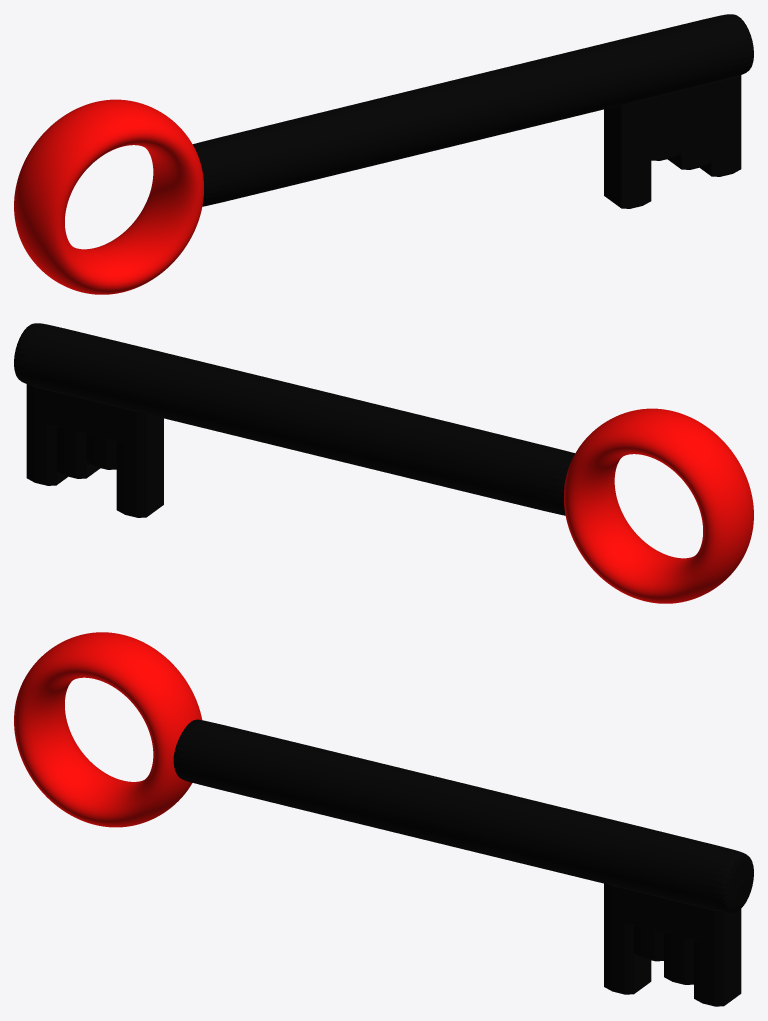
File: Key.fbx
3 renders of one model, top to bottom at view 1: azimuth 30°, elevation 25°; view 2: azimuth 150°, elevation 25°; view 3: azimuth 330°, elevation 25°, orthographic.
Visible parts, largest first — view 1: KeyCylinder, KeyRing, KeyFrame; view 2: KeyCylinder, KeyRing, KeyFrame; view 3: KeyCylinder, KeyRing, KeyFrame.
Boxes of the visible parts, left/top/right/bottom form: KeyCylinder: left=193, top=14, right=753, bottom=206; KeyRing: left=14, top=99, right=203, bottom=294; KeyFrame: left=604, top=75, right=741, bottom=208; KeyCylinder: left=14, top=323, right=574, bottom=515; KeyRing: left=564, top=408, right=753, bottom=603; KeyFrame: left=26, top=384, right=163, bottom=517; KeyCylinder: left=173, top=719, right=753, bottom=912; KeyRing: left=14, top=632, right=202, bottom=827; KeyFrame: left=604, top=883, right=741, bottom=1006.
Bounding box in the file's own units: 0.9553 × 10.3 × 3.02.
